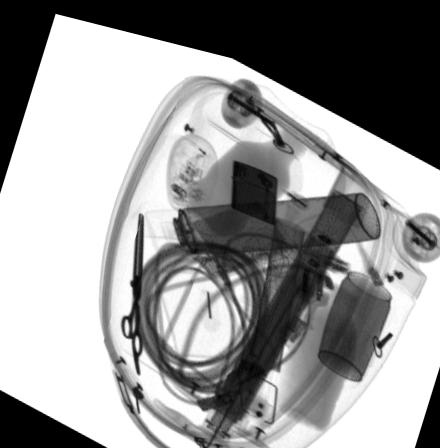Lighter: (232, 145, 276, 211)
Scissors: (119, 205, 145, 369)
Sprayer: (145, 172, 383, 253)
